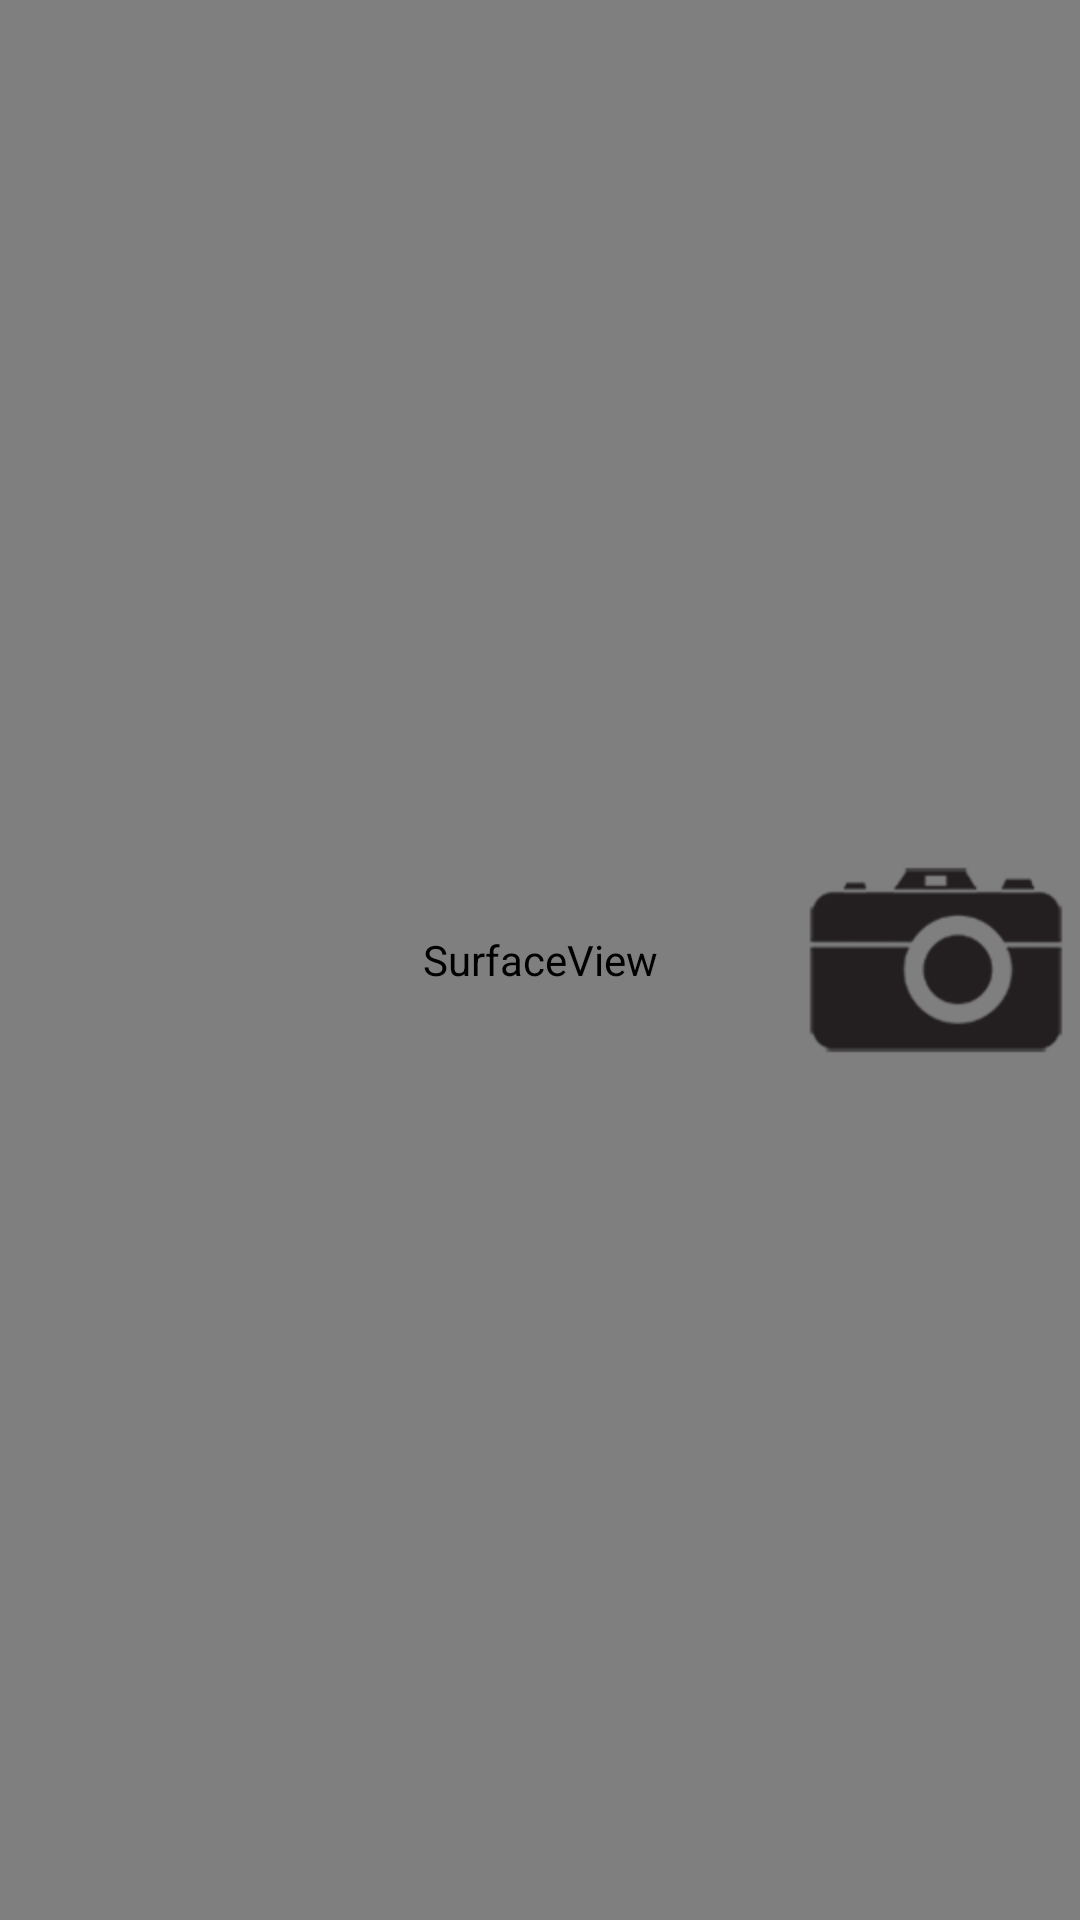

Icons on this 1080px x 1920px Android screen, each with its box as (x1, y1, x2, y2):
camera: (810, 868, 1062, 1052)
